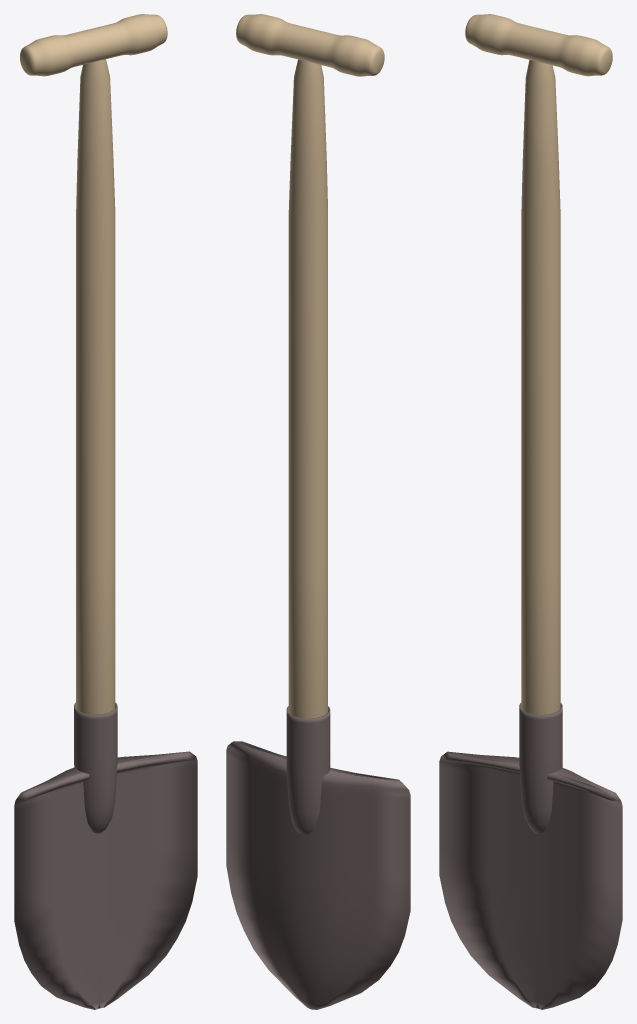
The model's file is schaufel.dae.
The picture shows the model from 3 angles, left to right: view 1: azimuth 30°, elevation 25°; view 2: azimuth 150°, elevation 25°; view 3: azimuth 330°, elevation 25°; orthographic projection.
Parts seen in each view (by area): view 1: spaten, griff; view 2: spaten, griff; view 3: spaten, griff.
Part boxes in pixels (x1,y1,x2,y2): spaten: (14,702,197,1009); griff: (20,14,167,714); spaten: (226,706,410,1009); griff: (236,14,384,718); spaten: (439,703,622,1009); griff: (465,14,612,714).
Size of the model in its own units: 2.83 by 0.6313 by 14.42.
